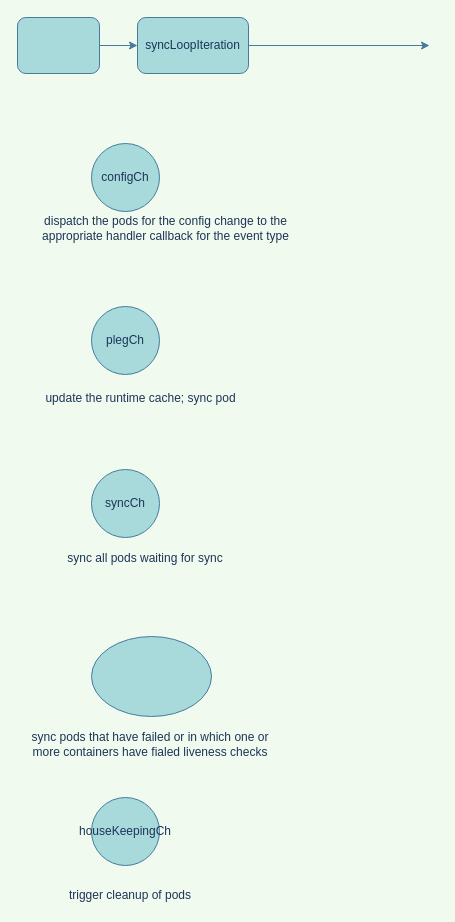
Some shapes in this 455 by 922 pixel diagram are drawn without their labels. The box of each missing label's shape, as (x1, y1, x2, y2) in pixels:
livenessManager: (90, 636, 212, 716)
syncLoop: (16, 16, 100, 74)
